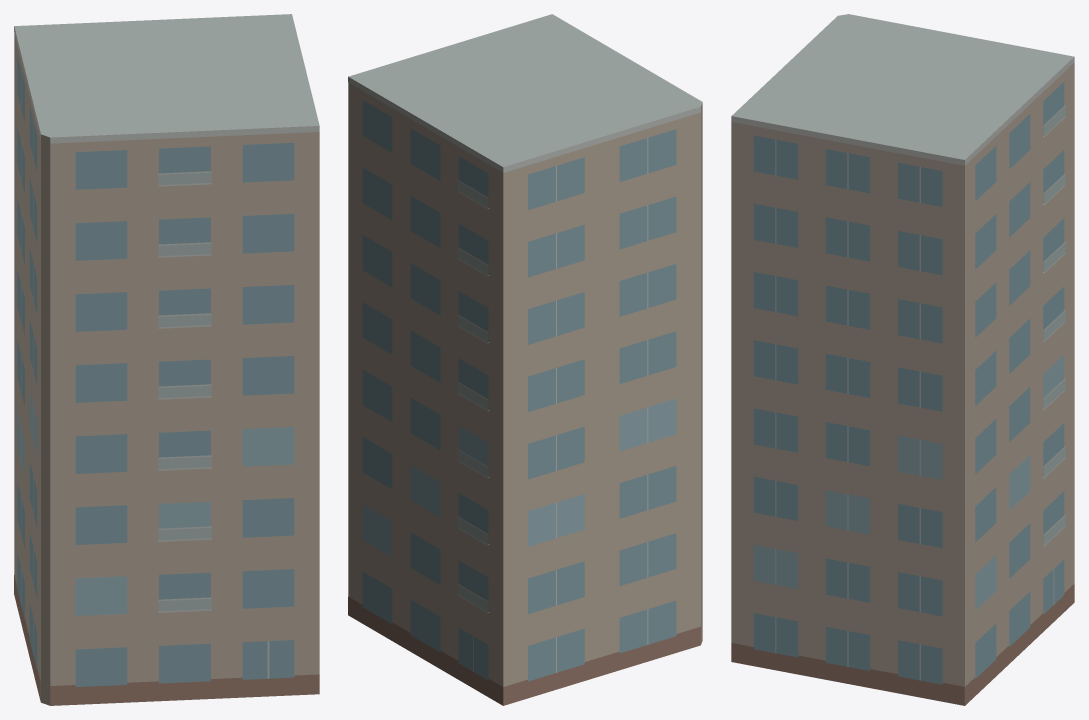
The model's file is survey-upis-32539850.glb.
The picture shows the model from 3 angles, left to right: view 1: azimuth 30°, elevation 25°; view 2: azimuth 150°, elevation 25°; view 3: azimuth 270°, elevation 25°; orthographic projection. The views are drawn at different scales.
Visible parts, largest first — view 1: survey-upis-32539850.tmp; view 2: survey-upis-32539850.tmp; view 3: survey-upis-32539850.tmp.
Boxes of the visible parts, <box> form: survey-upis-32539850.tmp: <box>14,14,319,705</box>; survey-upis-32539850.tmp: <box>348,14,702,705</box>; survey-upis-32539850.tmp: <box>731,14,1074,705</box>.
Size of the model in its own units: 13.15 by 22.9 by 13.05.
